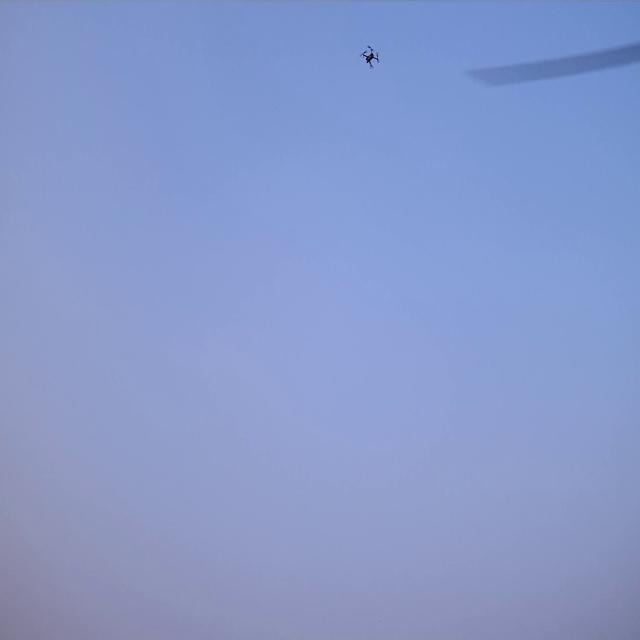UAV: (362, 46, 378, 68)
